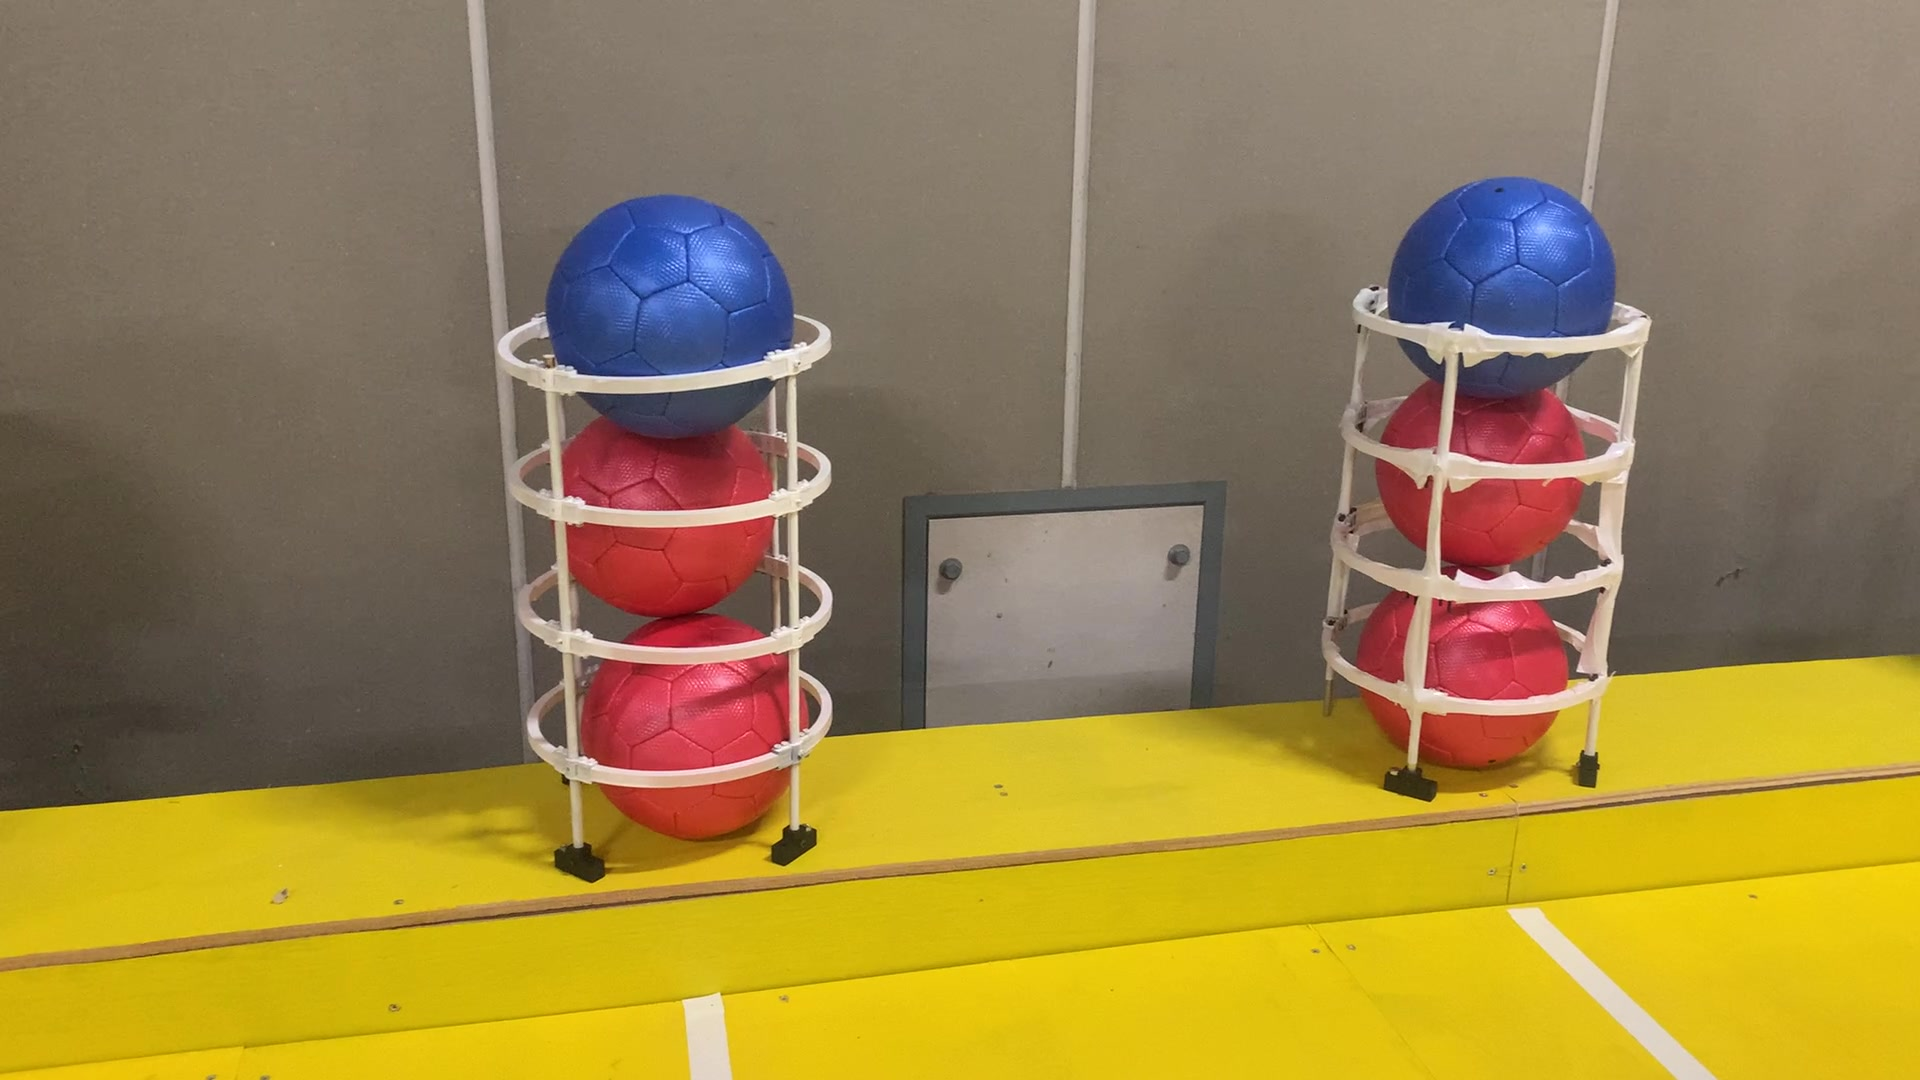blue: (553, 191, 794, 436), (1390, 179, 1626, 402)
red: (574, 617, 815, 831), (553, 410, 782, 617), (1378, 361, 1588, 567), (1361, 571, 1577, 769)
